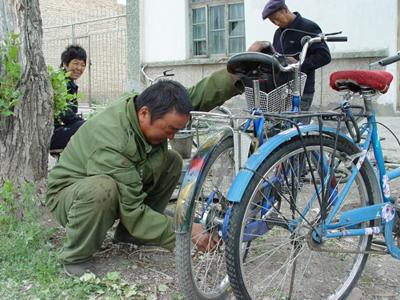person: (47, 41, 279, 283)
